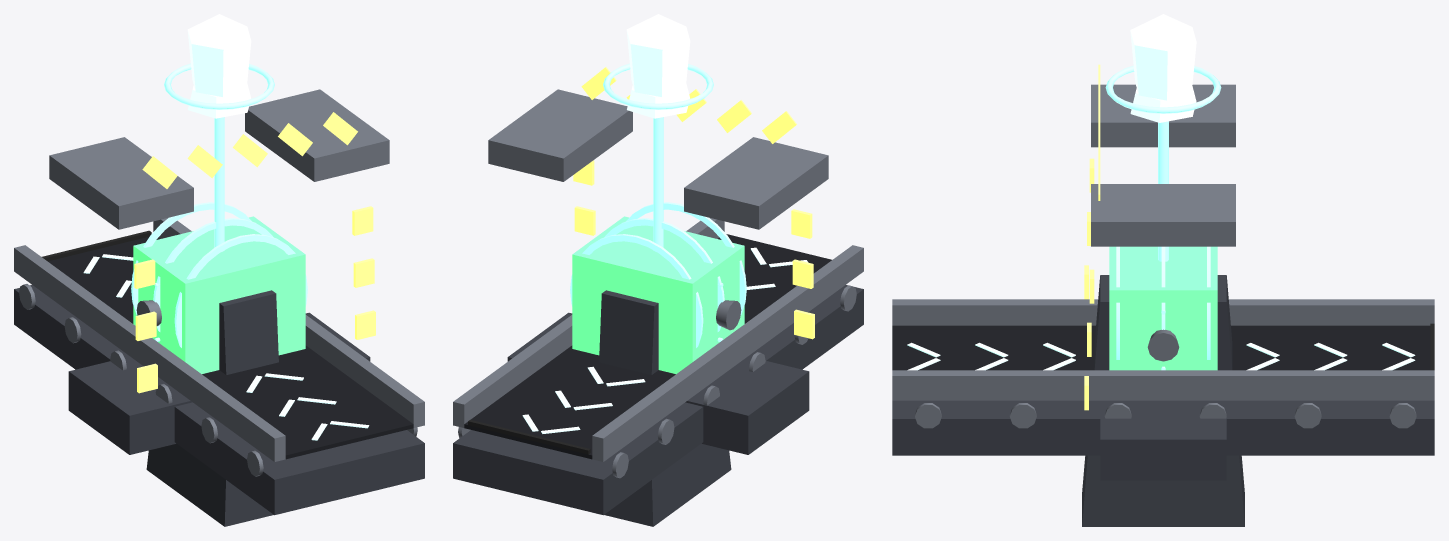
File: PrismUpgrader_Roblox.fbx
3 views of the same model, side by side, from view 1: azimuth 30°, elevation 25°; view 2: azimuth 150°, elevation 25°; view 3: azimuth 270°, elevation 25° (orthographic). The views are drawn at different scales.
Parts seen in each view (by area): view 1: DarkPlate, SteelPlate, UpgradeZone, Conveyor.001, GateLamp, UpgradeLaser, PrismCore, BeltArrows, BeltEnd; view 2: DarkPlate, SteelPlate, UpgradeZone, Conveyor.001, UpgradeLaser, PrismCore, GateLamp, BeltArrows, BeltEnd; view 3: SteelPlate, DarkPlate, Conveyor.001, UpgradeZone, PrismCore, UpgradeLaser, BeltArrows, GateLamp.
Part boxes in pixels (left/top/right/bottom): DarkPlate: left=14, top=285, right=424, bottom=526; SteelPlate: left=14, top=89, right=424, bottom=476; UpgradeZone: left=133, top=216, right=305, bottom=373; Conveyor.001: left=48, top=236, right=413, bottom=459; GateLamp: left=134, top=112, right=375, bottom=393; UpgradeLaser: left=131, top=63, right=307, bottom=347; PrismCore: left=187, top=14, right=251, bottom=118; BeltArrows: left=83, top=254, right=369, bottom=440; BeltEnd: left=42, top=230, right=151, bottom=261; DarkPlate: left=453, top=285, right=863, bottom=526; SteelPlate: left=453, top=89, right=863, bottom=478; UpgradeZone: left=572, top=216, right=744, bottom=373; Conveyor.001: left=464, top=234, right=831, bottom=459; UpgradeLaser: left=570, top=63, right=746, bottom=347; PrismCore: left=626, top=14, right=690, bottom=118; GateLamp: left=573, top=67, right=814, bottom=339; BeltArrows: left=522, top=247, right=808, bottom=433; BeltEnd: left=468, top=419, right=590, bottom=454; SteelPlate: left=892, top=84, right=1434, bottom=428; DarkPlate: left=892, top=275, right=1434, bottom=526; Conveyor.001: left=892, top=325, right=1430, bottom=370; UpgradeZone: left=1109, top=246, right=1217, bottom=370; PrismCore: left=1130, top=14, right=1196, bottom=122; UpgradeLaser: left=1105, top=65, right=1221, bottom=370; BeltArrows: left=907, top=342, right=1415, bottom=370; GateLamp: left=1084, top=64, right=1100, bottom=410.
Bounding box in the file's own units: 720 × 1210 × 1200.
